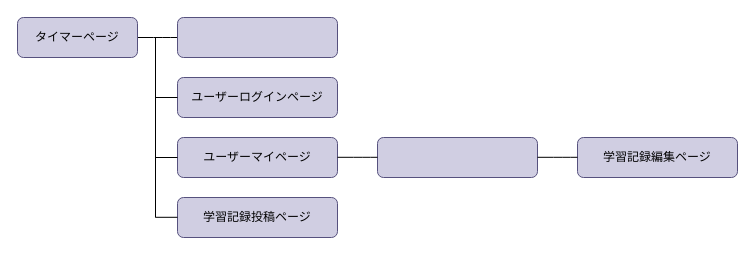
Some shapes in this 755 by 255 pixel diagram are drawn without their labels. The box of each missing label's shape, as (x1, y1, x2, y2) in pixels:
ユーザー新規登録ページ: (176, 16, 338, 58)
学習記録詳細ページ: (376, 136, 538, 178)
